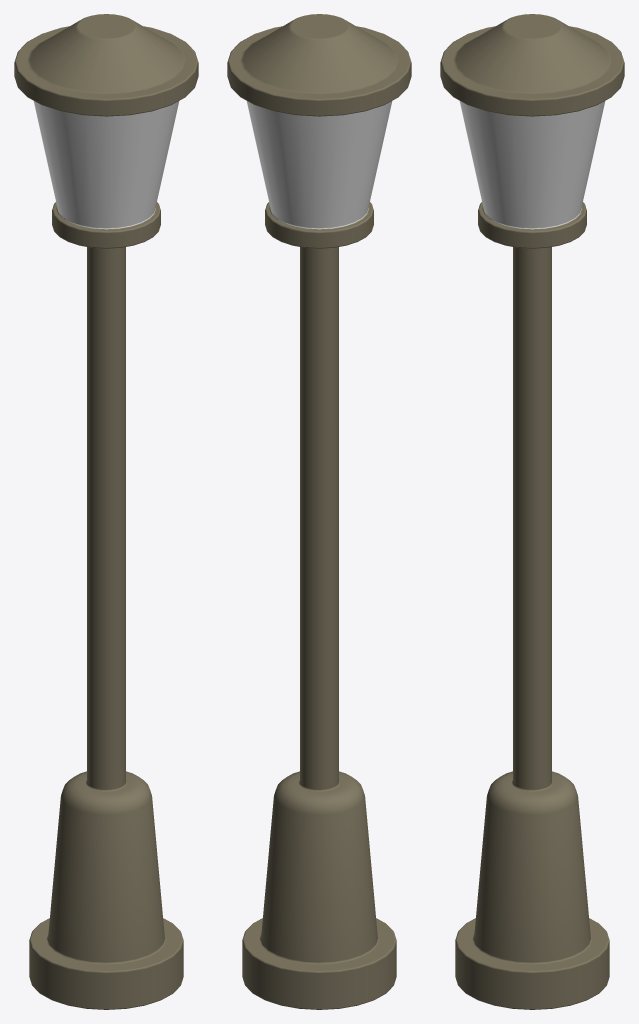
Rendered from lattern.fbx.
The picture shows the model from 3 angles, left to right: view 1: azimuth 30°, elevation 25°; view 2: azimuth 150°, elevation 25°; view 3: azimuth 270°, elevation 25°; orthographic projection.
Parts seen in each view (by area): view 1: Circle.002; view 2: Circle.002; view 3: Circle.002.
Boxes of the visible parts, <box> form: Circle.002: <box>14,14,198,1009</box>; Circle.002: <box>227,14,411,1009</box>; Circle.002: <box>440,14,624,1009</box>.
Size of the model in its own units: 101 by 579 by 101.
